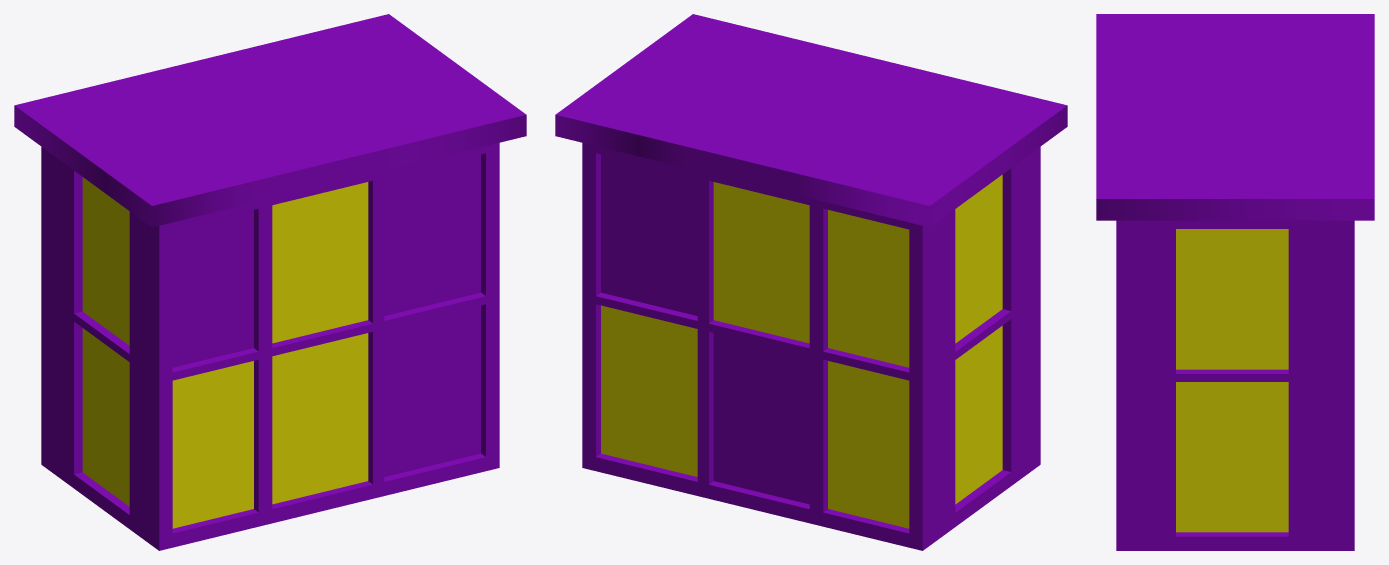
Rendered from Building_Medium_Side_003.fbx.
3 renders of one model, left to right at view 1: azimuth 30°, elevation 25°; view 2: azimuth 150°, elevation 25°; view 3: azimuth 270°, elevation 25°, orthographic.
Parts seen in each view (by area): view 1: Building_Medium_Side_003; view 2: Building_Medium_Side_003; view 3: Building_Medium_Side_003.
Boxes of the visible parts, left/top/right/bottom form: Building_Medium_Side_003: left=14, top=14, right=526, bottom=550; Building_Medium_Side_003: left=555, top=14, right=1067, bottom=550; Building_Medium_Side_003: left=1096, top=14, right=1374, bottom=550.
Bounding box in the file's own units: 4400 × 4000 × 2800.
